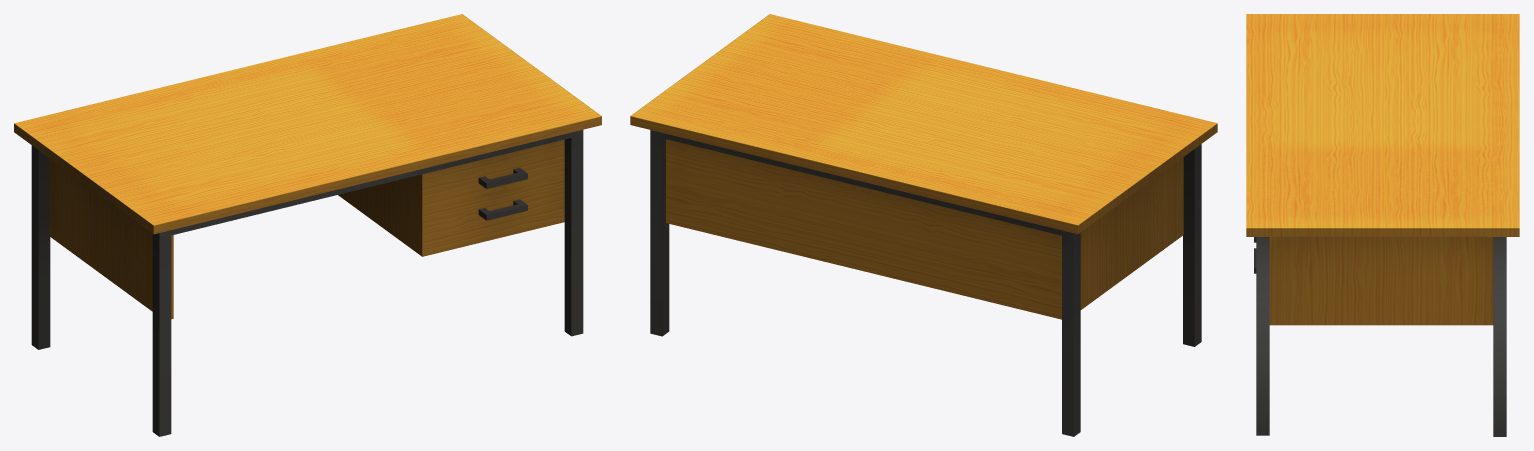
File: desk.fbx
The picture shows the model from 3 angles, left to right: view 1: azimuth 30°, elevation 25°; view 2: azimuth 150°, elevation 25°; view 3: azimuth 270°, elevation 25°; orthographic projection. The views are drawn at different scales.
Visible parts, largest first — view 1: desk:polySurface21; view 2: desk:polySurface21; view 3: desk:polySurface21.
Part boxes in pixels (x1,y1,x2,y2): desk:polySurface21: [14, 14, 601, 436]; desk:polySurface21: [630, 14, 1217, 436]; desk:polySurface21: [1246, 14, 1519, 436].
Size of the model in its own units: 30.15 by 14.11 by 16.27.
1 material, 1 textured.
